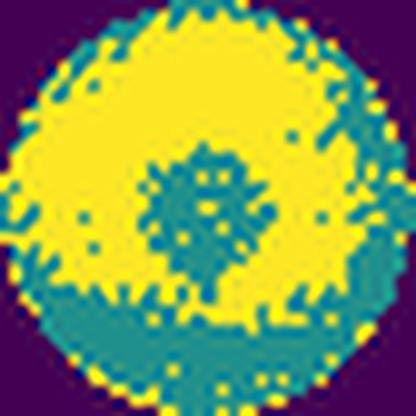Donut: (24, 18, 384, 332)
